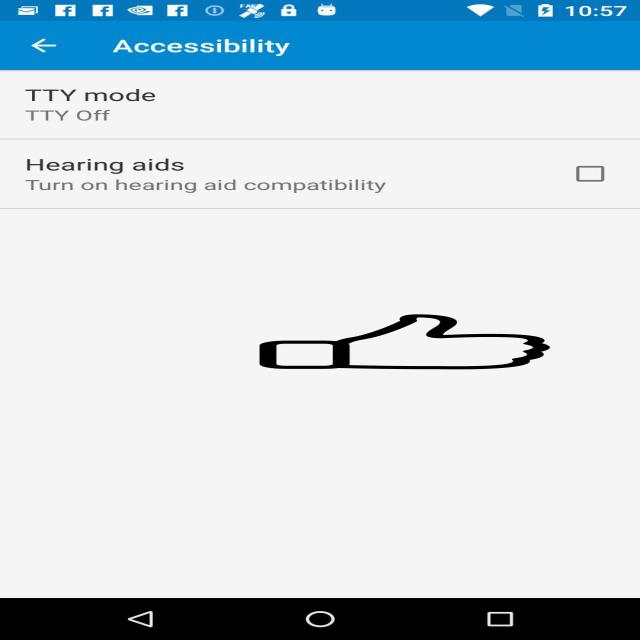privacy zuckering: (255, 314, 554, 370)
